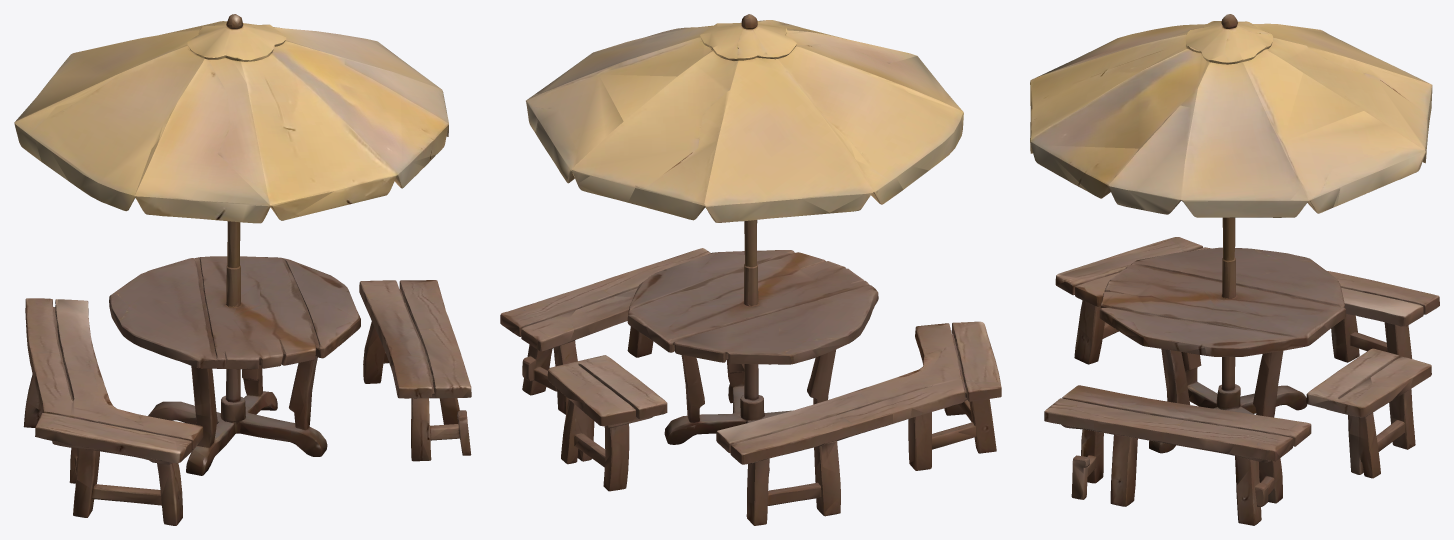
3 views of the same model, side by side, from view 1: azimuth 30°, elevation 25°; view 2: azimuth 150°, elevation 25°; view 3: azimuth 270°, elevation 25° (orthographic). The views are drawn at different scales.
Visible parts, largest first — view 1: model; view 2: model; view 3: model.
Boxes of the visible parts, x1,y1,x2,y2 form: model: (14, 14, 471, 525); model: (500, 14, 1001, 525); model: (1030, 14, 1439, 525).
Size of the model in its own units: 1.9 by 1.71 by 1.53.
Materials: 1 (1 with a texture image).
